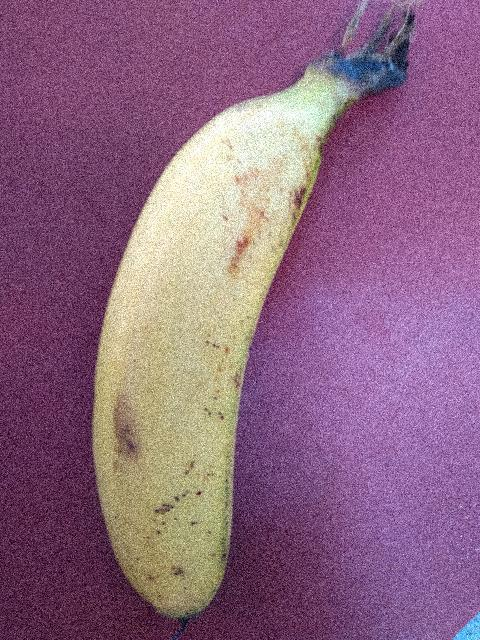ripe: (89, 114, 349, 626)
